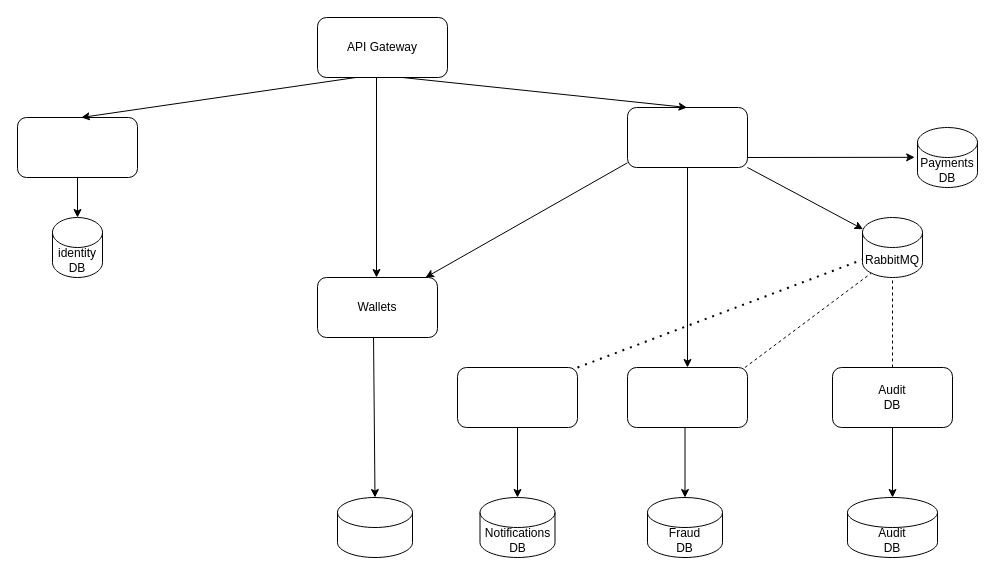
The diagram is 995 pixels wide and 575 high, and some of its shapes have lost their labels. Each missing label, with the centre of its shape:
Fraud: the point at 687,397
Identity: the point at 77,147
Notifications: the point at 517,397
Payments: the point at 687,137
Wallet DB: the point at 374,527
